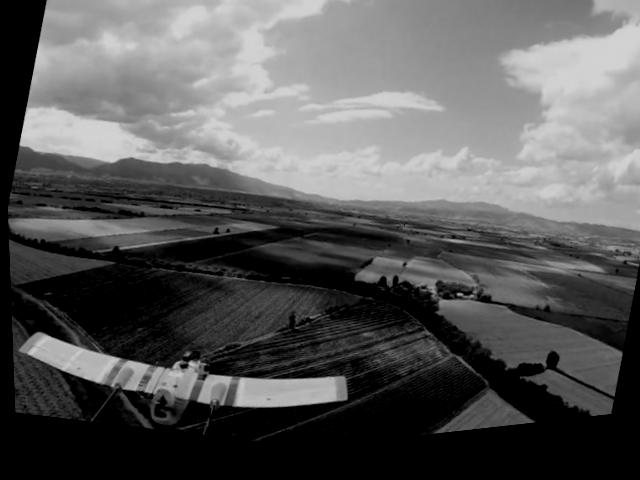hedef: (9, 291, 357, 480)
